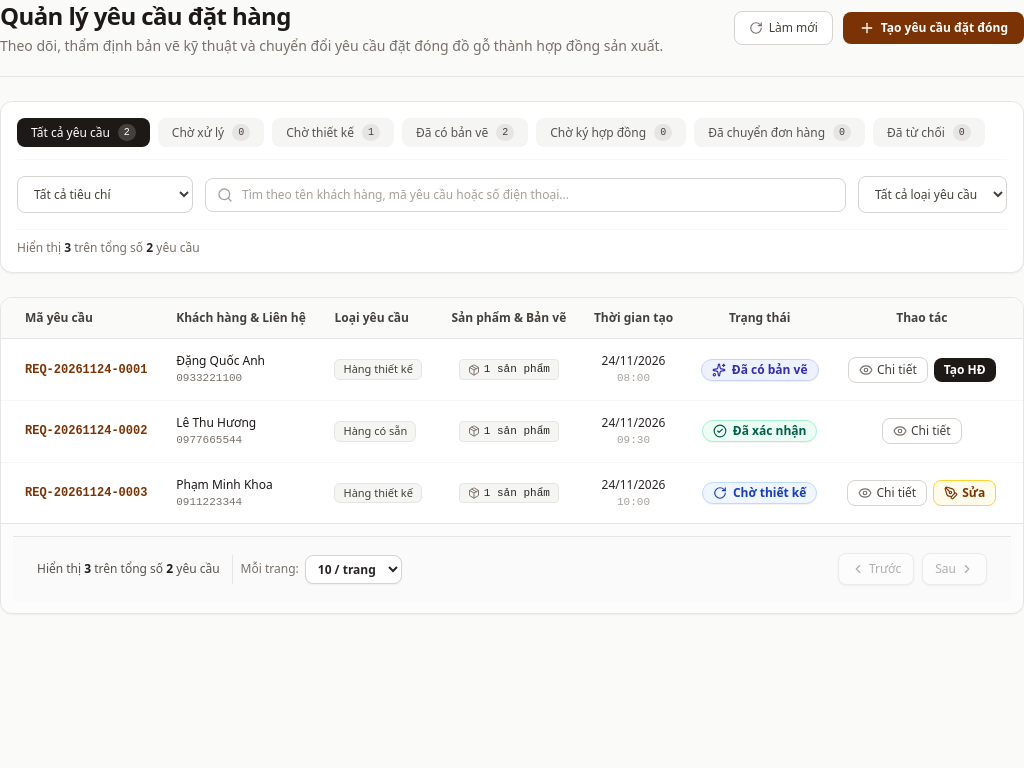
Test: RequestsPage Component › opens contract modal on clicking Tạo HĐ
Expected: the text "REQ-20261124-0001" is shown, [1,339,164,400]
Click the button "Tạo HĐ": (965, 370) [934,358,996,382]
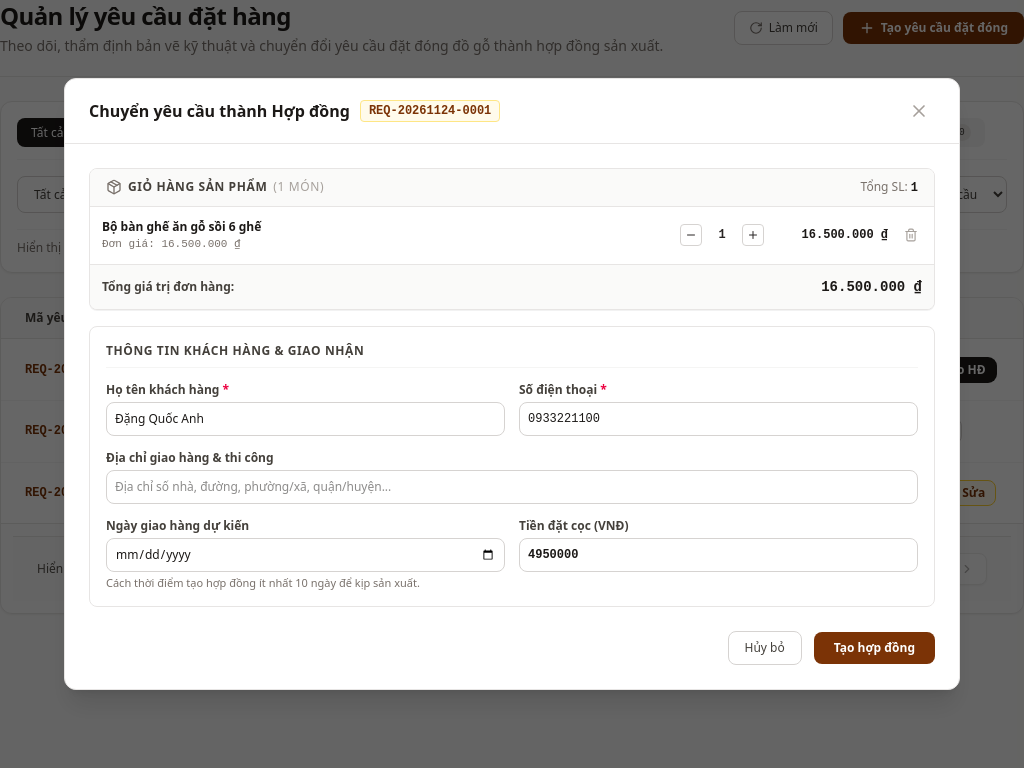
Expected: the heading "Chuyển yêu cầu thành Hợp đồng" is shown, [89,99,350,123]
Expected: the field showing "Đặng Quốc Anh" below "Họ tên khách hàng" is shown, [106,402,505,436]
